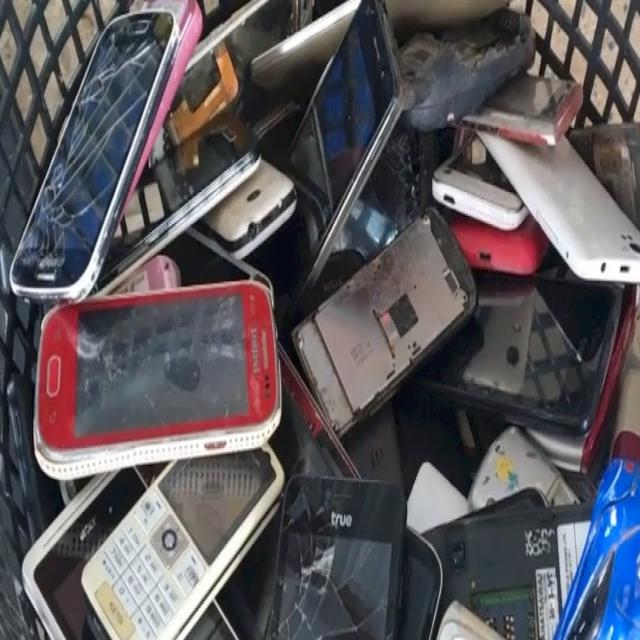heap: (61, 21, 605, 640)
metel: (295, 216, 503, 410), (28, 306, 283, 464), (25, 481, 259, 640), (470, 103, 640, 297), (451, 478, 621, 640), (280, 467, 406, 640), (177, 121, 297, 252)
